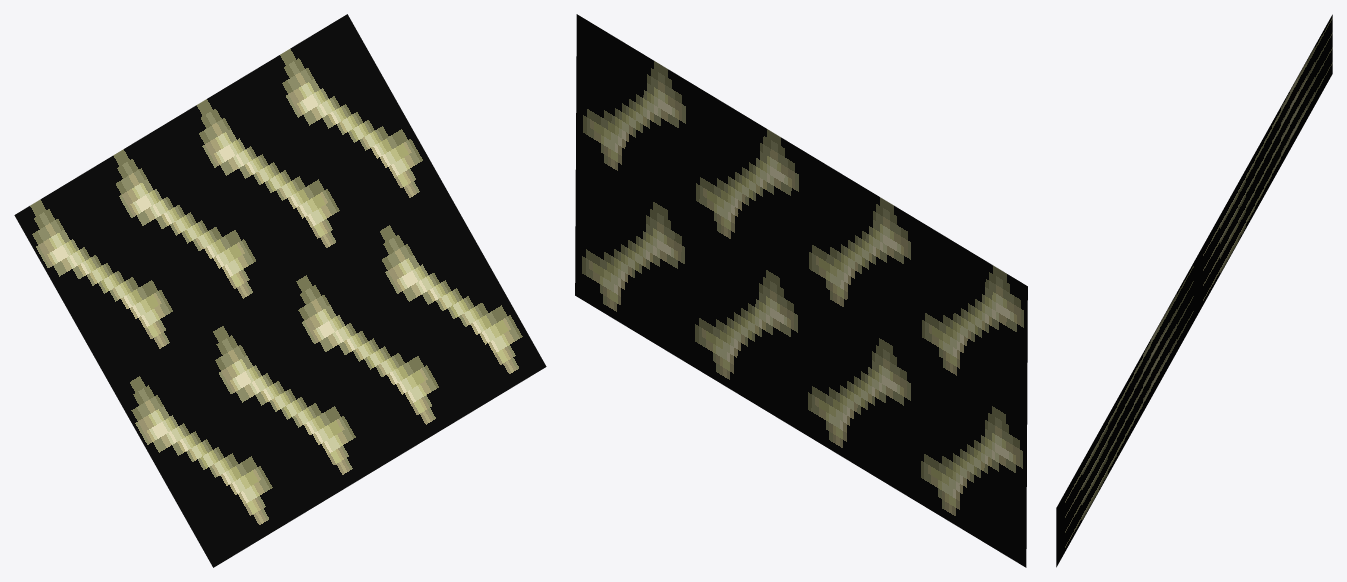
File: 1261ic_kaseki_r.gltf
3 views of the same model, side by side, from view 1: azimuth 30°, elevation 25°; view 2: azimuth 150°, elevation 25°; view 3: azimuth 270°, elevation 25° (orthographic). The views are drawn at different scales.
Parts seen in each view (by area): view 1: 1261ic_kaseki_r; view 2: 1261ic_kaseki_r; view 3: 1261ic_kaseki_r.
Part boxes in pixels (x1,y1,x2,y2): 1261ic_kaseki_r: (14,14,546,567); 1261ic_kaseki_r: (575,14,1027,567); 1261ic_kaseki_r: (1056,14,1332,567).
Size of the model in its own units: 0.9792 by 0.917 by 0.3872.
1 material, 1 textured.
